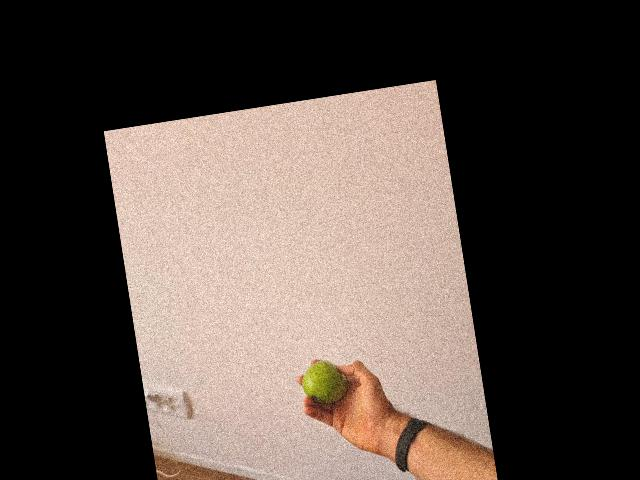apple: (298, 358, 345, 405)
